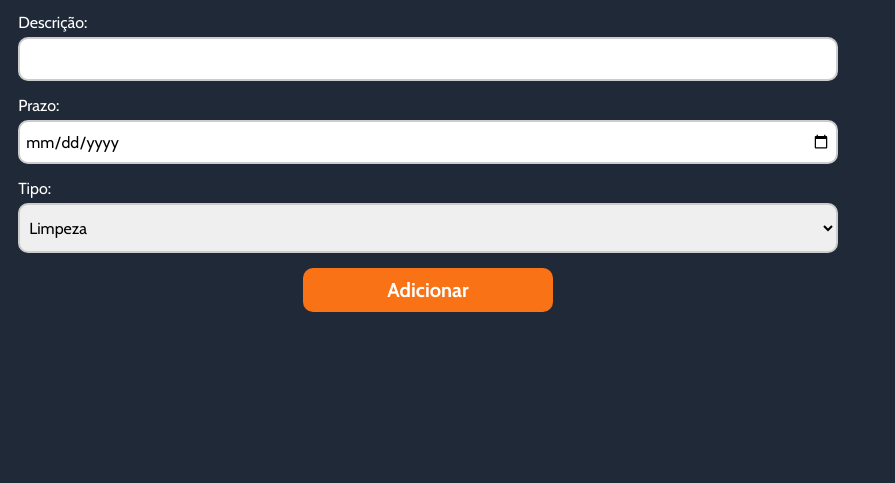
Scenario: e2e over Todos app › should allow user to save a todo
Type "Treinar bíceps" into the field. click: (428, 59)
box: [18, 37, 838, 81]
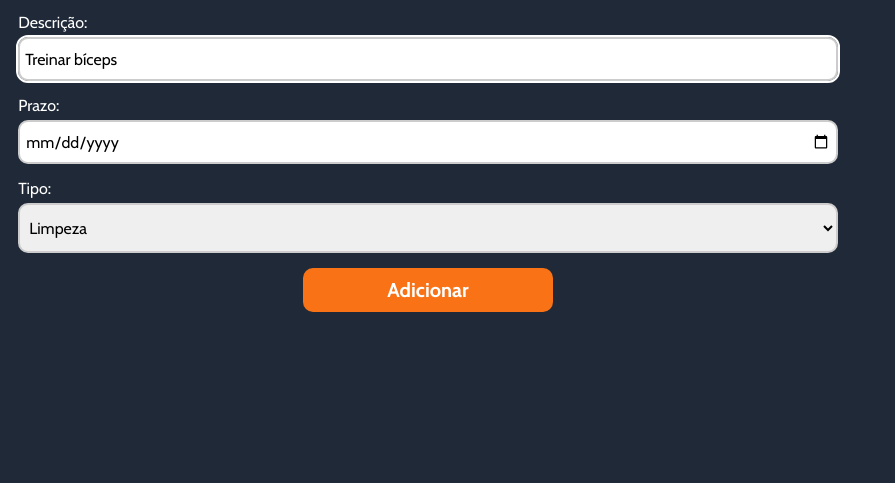
Type "2024-09-02" into the date field. click: (428, 142)
box: [18, 120, 838, 164]
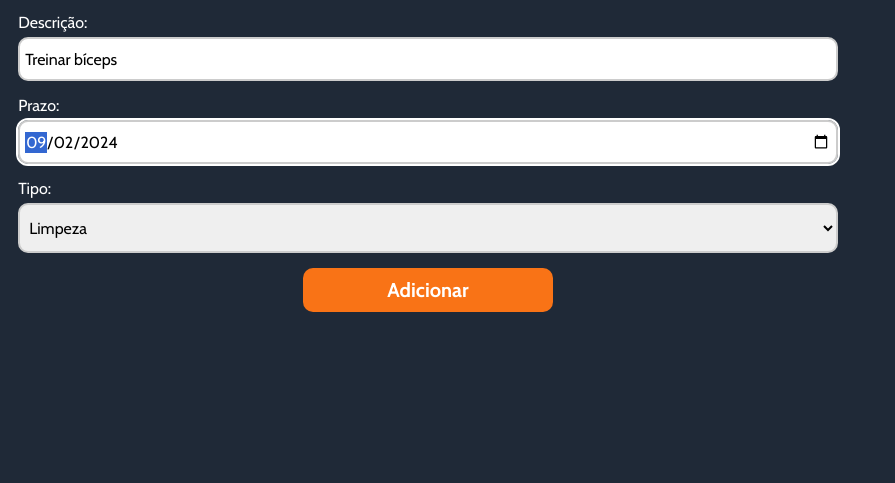
Select "Exercícios físicos" in the dropdown. click: (428, 228)
box: [18, 203, 838, 253]
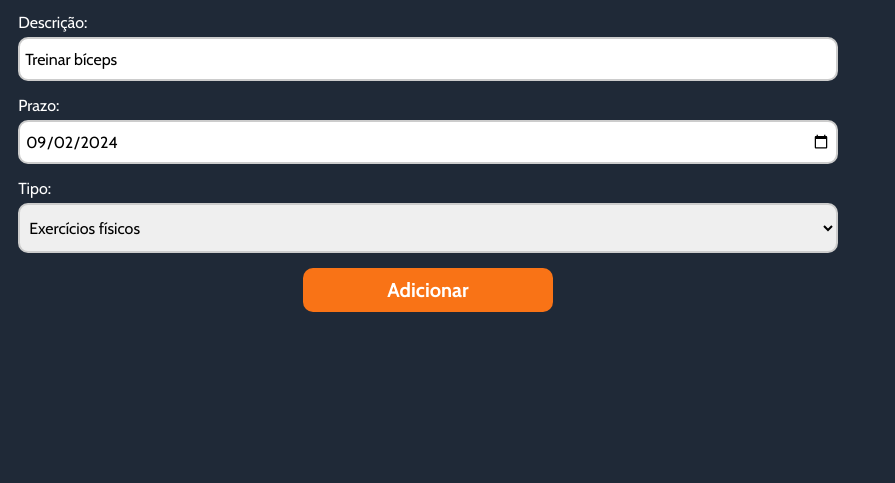
Click the submit button. click: (428, 290)
box: [303, 268, 553, 312]
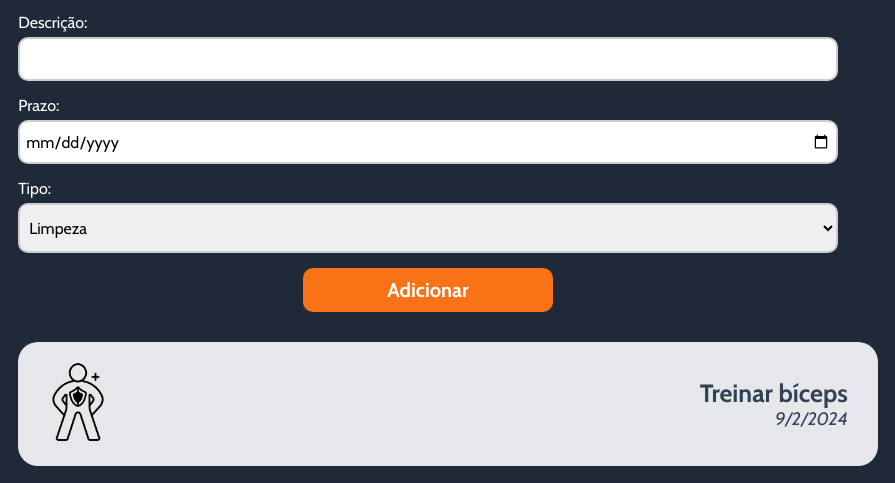
Result: the text with test id "task-description" reads "Treinar bíceps" at [700, 378, 848, 408]
